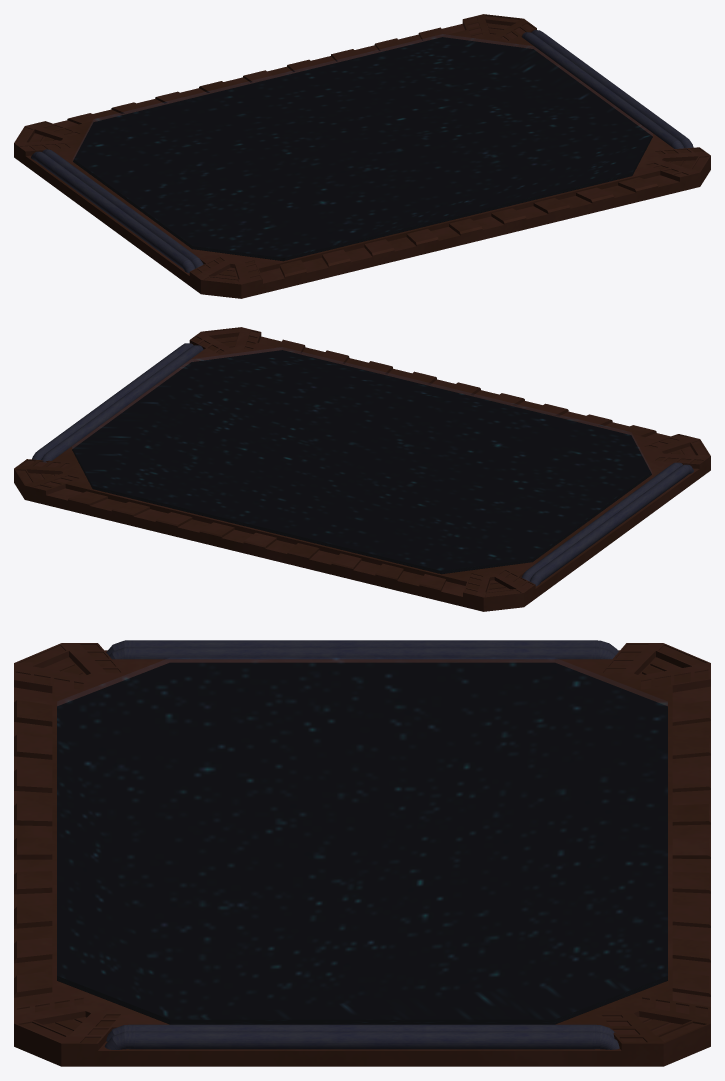
File: Final_Screen on and off.glb
The picture shows the model from 3 angles, top to bottom: view 1: azimuth 30°, elevation 25°; view 2: azimuth 150°, elevation 25°; view 3: azimuth 270°, elevation 25°; orthographic projection. The views are drawn at different scales.
Parts seen in each view (by area): view 1: Cube, Cube.001, Cylinder.001, Cylinder.003, Cylinder.002, Cylinder, Cube.002; view 2: Cube, Cube.001, Cylinder.001, Cylinder.003, Cylinder, Cylinder.002, Cube.002; view 3: Cube, Cube.001, Cylinder.002, Cylinder, Cylinder.001, Cylinder.003, Cube.002.
Boxes of the visible parts, <box> form: Cube: <box>73,37,652,261</box>; Cube.001: <box>14,14,710,298</box>; Cylinder.001: <box>31,151,195,273</box>; Cylinder.003: <box>522,32,683,148</box>; Cylinder.002: <box>531,30,693,148</box>; Cylinder: <box>42,149,203,268</box>; Cube.002: <box>89,34,649,255</box>; Cube: <box>72,350,651,574</box>; Cube.001: <box>14,327,710,611</box>; Cylinder.001: <box>530,464,693,586</box>; Cylinder.003: <box>41,345,203,462</box>; Cylinder: <box>521,462,682,581</box>; Cylinder.002: <box>32,343,193,459</box>; Cube.002: <box>73,348,647,569</box>; Cube: <box>57,662,667,1024</box>; Cube.001: <box>14,643,710,1066</box>; Cylinder.002: <box>104,1031,619,1049</box>; Cylinder: <box>109,647,615,659</box>; Cylinder.001: <box>106,640,618,655</box>; Cylinder.003: <box>106,1024,615,1041</box>; Cube.002: <box>57,658,667,1019</box>.
Bounding box in the file's own units: 13.21 × 0.4575 × 9.71.
5 materials, 5 textured.
